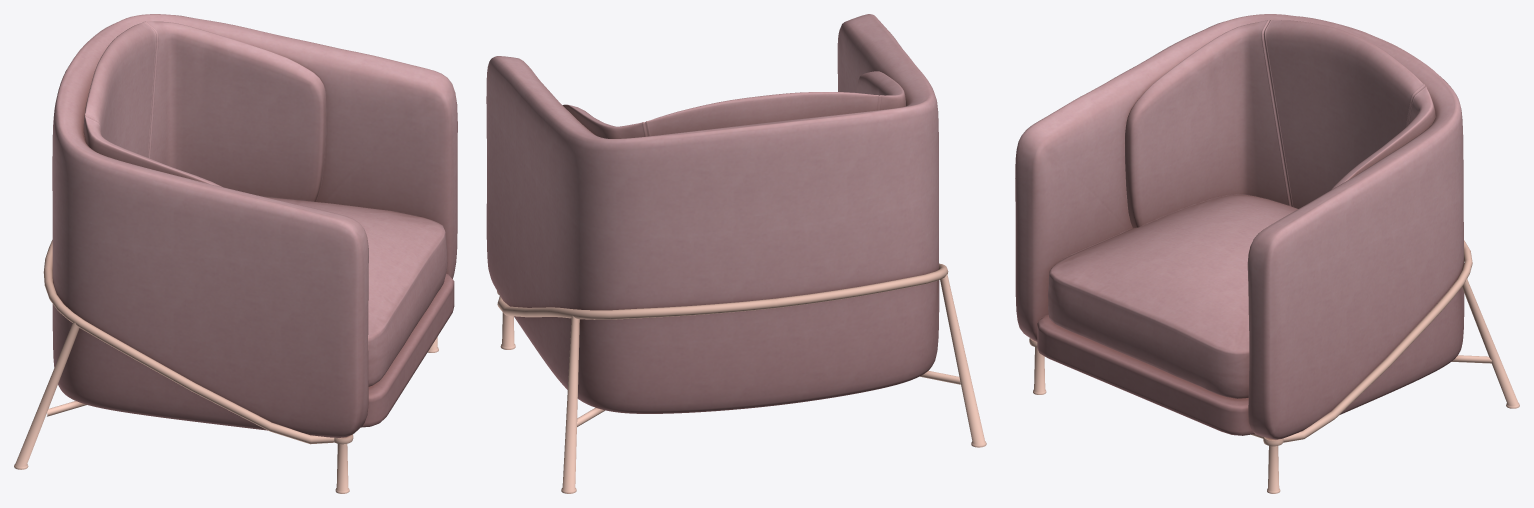
Rendered from pink.glb.
3 renders of one model, left to right at view 1: azimuth 30°, elevation 25°; view 2: azimuth 150°, elevation 25°; view 3: azimuth 270°, elevation 25°, orthographic. The views are drawn at different scales.
Visible parts, largest first — view 1: Group1_2; view 2: Group1_2; view 3: Group1_2.
Part boxes in pixels (x1,y1,x2,y2): Group1_2: (14,14,457,493); Group1_2: (486,14,986,493); Group1_2: (1015,14,1519,493).
Size of the model in its own units: 1.26 by 0.8928 by 1.26.
Materials: 1 (1 with a texture image).
